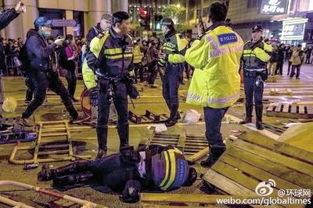10+: (1, 1, 313, 166)
down: (36, 141, 198, 200)
